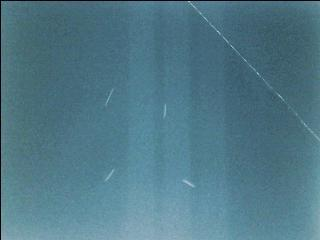crack: (187, 0, 320, 139)
scratch: (94, 161, 124, 190), (173, 170, 203, 195), (98, 81, 119, 113), (155, 98, 177, 123)
